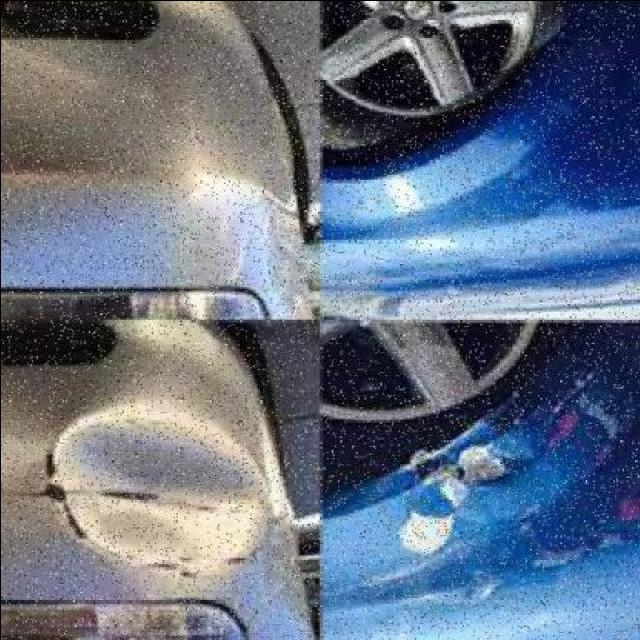fender-dent: (317, 314, 640, 640)
front-bumper-dent: (1, 309, 317, 640)
